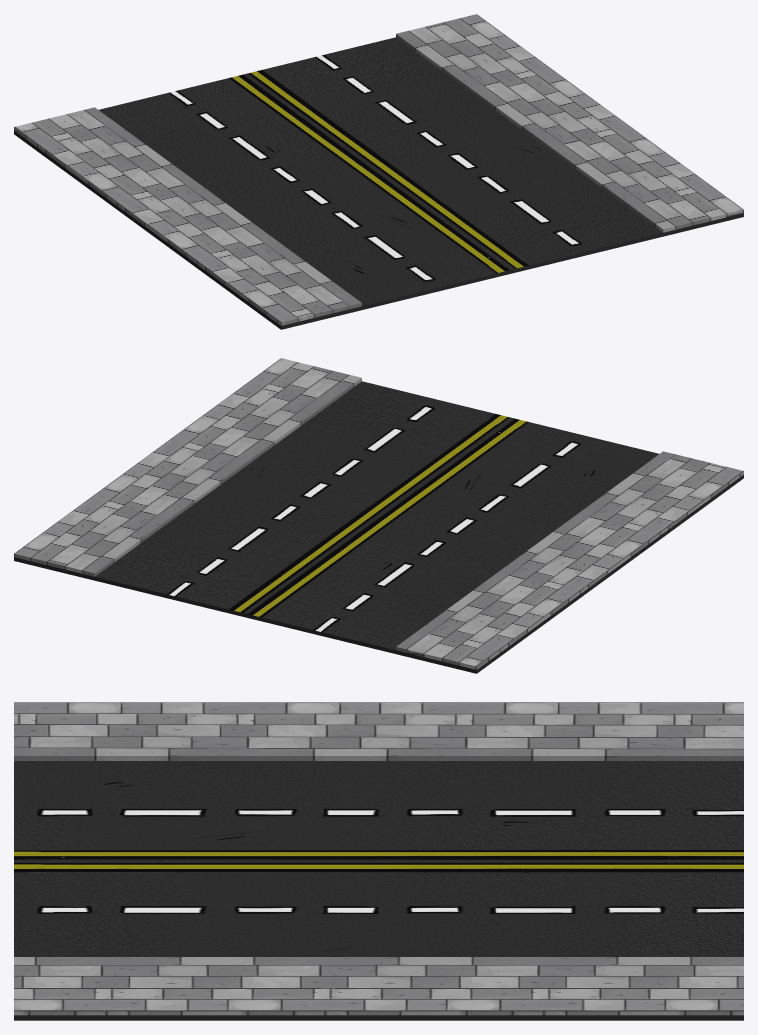
The model's file is large-road.fbx.
3 views of the same model, one above another, from view 1: azimuth 30°, elevation 25°; view 2: azimuth 150°, elevation 25°; view 3: azimuth 270°, elevation 25° (orthographic). The views are drawn at different scales.
Visible parts, largest first — view 1: Box014; view 2: Box014; view 3: Box014.
Boxes of the visible parts, x1,y1,x2,y2 form: Box014: (14,14,743,329); Box014: (14,358,743,673); Box014: (14,702,743,1020).
Size of the model in its own units: 1920 by 28.88 by 1920.
